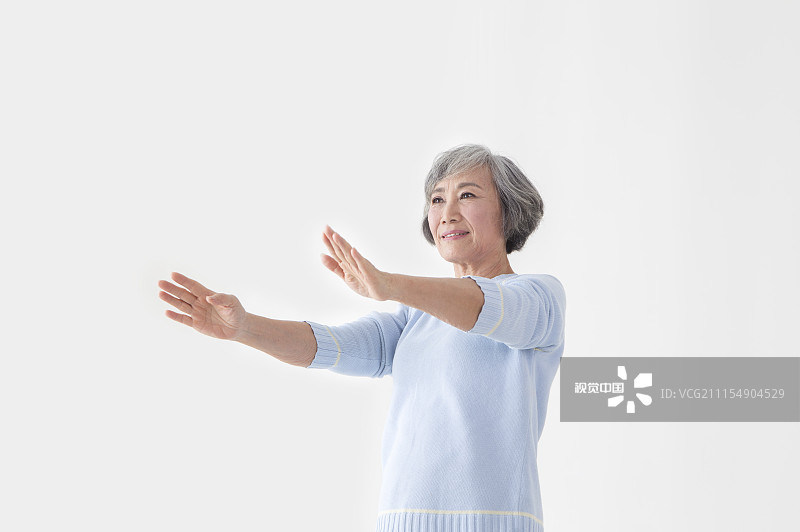no-phone: (297, 216, 420, 312), (138, 258, 252, 354)
